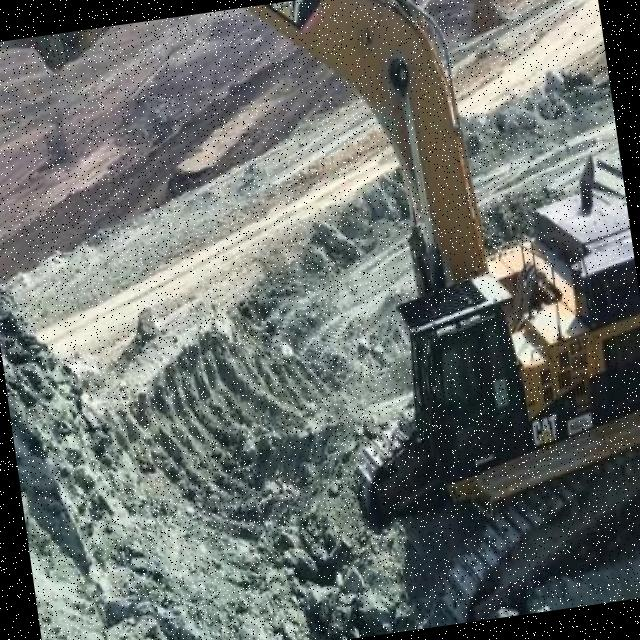Excavator: (237, 0, 640, 640)
